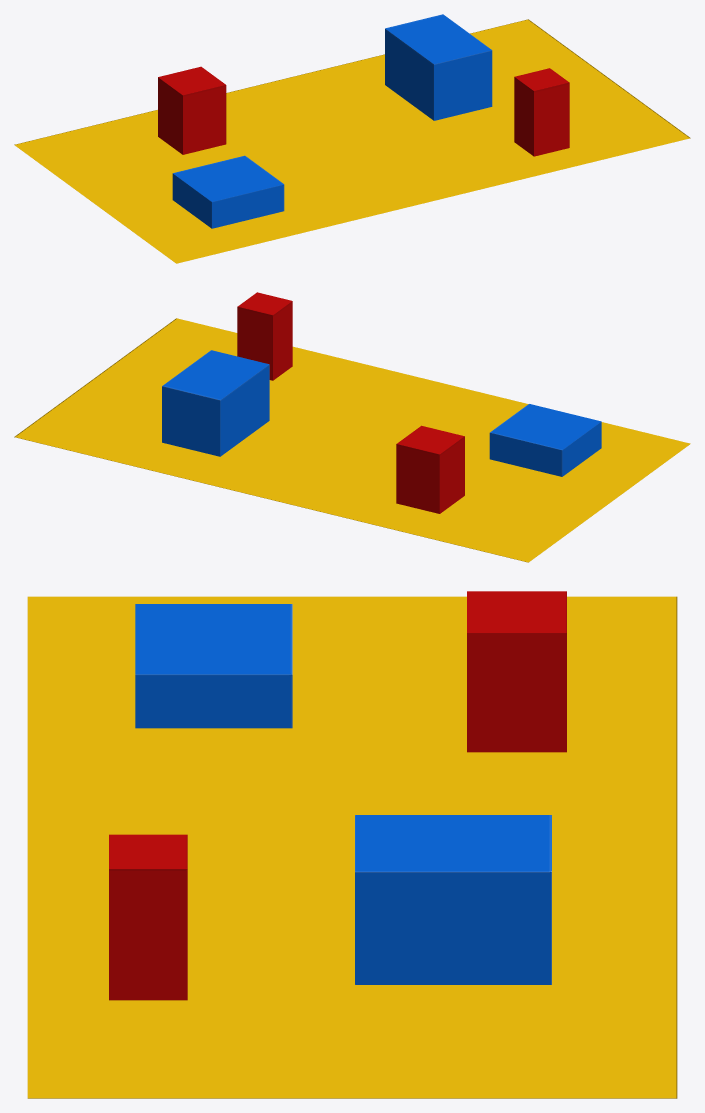
The model's file is background.fbx.
The picture shows the model from 3 angles, top to bottom: view 1: azimuth 30°, elevation 25°; view 2: azimuth 150°, elevation 25°; view 3: azimuth 270°, elevation 25°; orthographic projection. The views are drawn at different scales.
Visible parts, largest first — view 1: Plane001, Box002, Box003, Box001, Box004; view 2: Plane001, Box002, Box003, Box001, Box004; view 3: Plane001, Box002, Box003, Box001, Box004.
Boxes of the visible parts, x1,y1,x2,y2 form: Plane001: (14, 19, 690, 263); Box002: (385, 14, 492, 120); Box003: (172, 155, 284, 228); Box001: (158, 66, 226, 154); Box004: (514, 68, 569, 156); Plane001: (14, 318, 690, 562); Box002: (162, 350, 269, 456); Box003: (489, 404, 601, 476); Box001: (396, 425, 464, 513); Box004: (237, 292, 292, 380); Plane001: (27, 596, 677, 1098); Box002: (355, 815, 551, 984); Box003: (135, 604, 292, 728); Box001: (467, 591, 566, 752); Box004: (109, 834, 187, 1000).
Size of the model in its own units: 244 by 134 by 29.7.
Materials: 3 (3 with a texture image).
